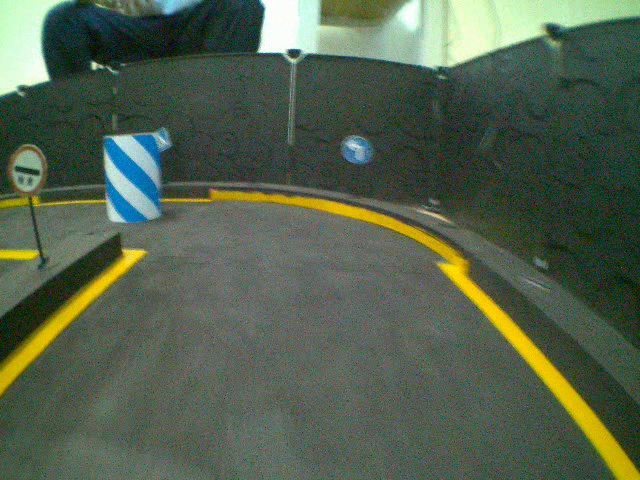bucket: (99, 131, 165, 224)
